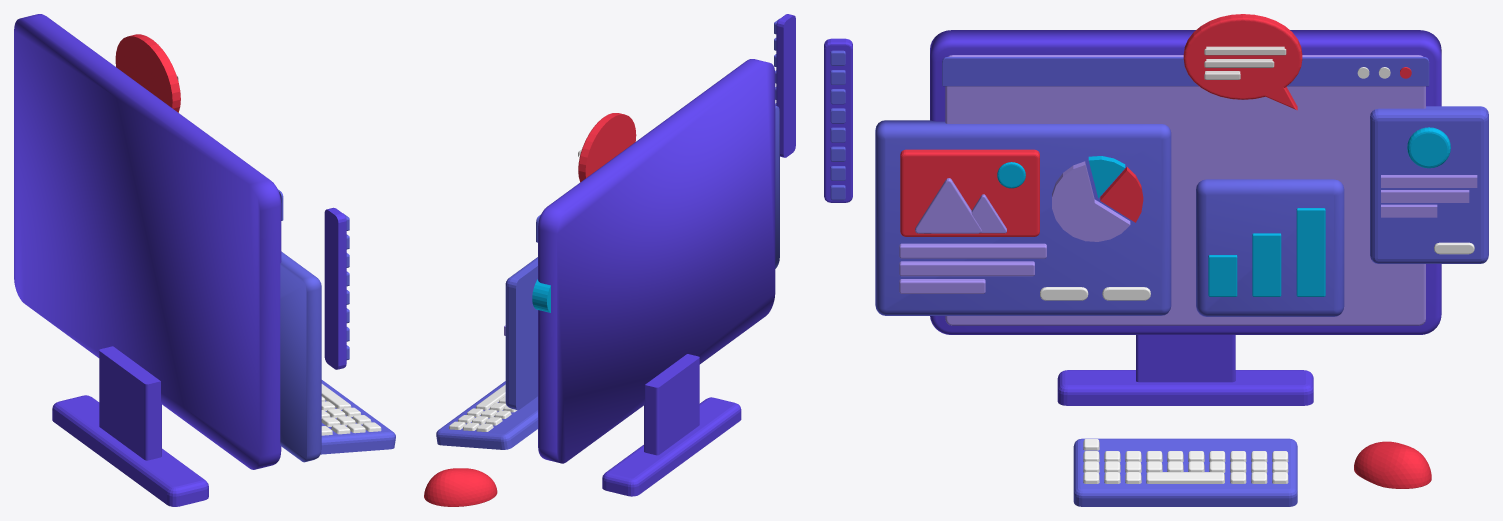
File: web6.gltf
The picture shows the model from 3 angles, left to right: view 1: azimuth 30°, elevation 25°; view 2: azimuth 150°, elevation 25°; view 3: azimuth 270°, elevation 25°; orthographic projection. The views are drawn at different scales.
Parts seen in each view (by area): view 1: Cube, Cube.010, Cube.002, Cube.001, Cube.009, Cylinder.002, Cube.022, Cube.025, Cube.028; view 2: Cube, Cube.002, Cube.004, Cube.001, Cube.022, Cube.009, Icosphere, Cylinder.002, Cube.010, Cylinder.001, Cube.025; view 3: Cube.003, Cube.010, Cube, Cube.015, Cube.004, Cube.021, Cube.022, Cube.020, Cube.002, Cylinder.002, Cube.001, Cylinder.003 (+22 smaller).
Boxes of the visible parts, x1=… form: Cube: x1=14, y1=14, x2=281, y2=469; Cube.010: x1=280, y1=251, x2=321, y2=462; Cube.002: x1=52, y1=395, x2=208, y2=506; Cube.001: x1=99, y1=346, x2=161, y2=460; Cube.009: x1=324, y1=207, x2=346, y2=369; Cylinder.002: x1=115, y1=34, x2=180, y2=112; Cube.022: x1=320, y1=380, x2=395, y2=454; Cube.025: x1=321, y1=396, x2=365, y2=433; Cube.028: x1=343, y1=213, x2=349, y2=359; Cube: x1=538, y1=59, x2=775, y2=463; Cube.002: x1=602, y1=397, x2=741, y2=496; Cube.004: x1=505, y1=257, x2=537, y2=410; Cube.001: x1=644, y1=354, x2=699, y2=455; Cube.022: x1=436, y1=381, x2=537, y2=449; Cube.009: x1=776, y1=14, x2=795, y2=157; Icosphere: x1=424, y1=468, x2=497, y2=506; Cylinder.002: x1=578, y1=113, x2=636, y2=182; Cube.010: x1=775, y1=106, x2=779, y2=268; Cylinder.001: x1=532, y1=279, x2=550, y2=312; Cube.025: x1=463, y1=396, x2=506, y2=430; Cube.003: x1=945, y1=55, x2=1425, y2=325; Cube.010: x1=875, y1=120, x2=1171, y2=315; Cube: x1=930, y1=30, x2=1441, y2=334; Cube.015: x1=1196, y1=179, x2=1344, y2=316; Cube.004: x1=1370, y1=106, x2=1488, y2=263; Cube.021: x1=942, y1=57, x2=1429, y2=86; Cube.022: x1=1073, y1=438, x2=1297, y2=506; Cube.020: x1=900, y1=149, x2=1039, y2=236; Cube.002: x1=1057, y1=370, x2=1313, y2=405; Cylinder.002: x1=1183, y1=14, x2=1302, y2=110; Cube.001: x1=1136, y1=335, x2=1235, y2=382; Cylinder.003: x1=1052, y1=161, x2=1130, y2=241.
Bounding box in the file's own units: 1.1 × 1.77 × 2.6.
